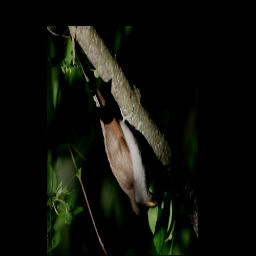Cuckoo: (71, 36, 158, 217)
